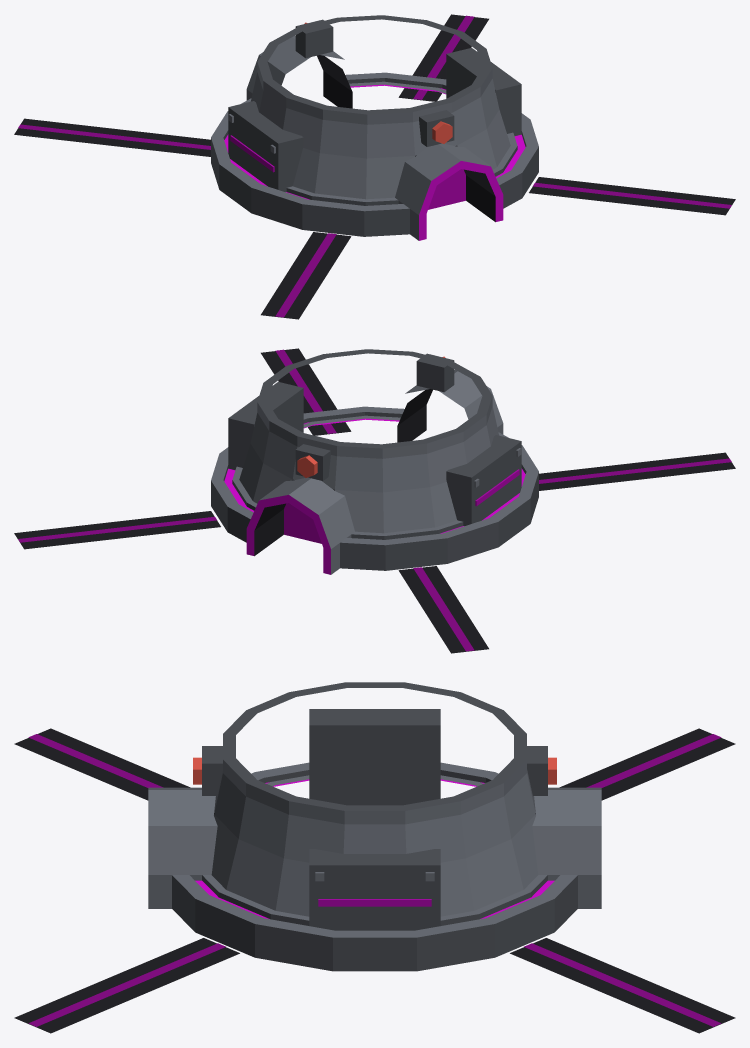
File: tube_entrance_v3_t2.glb
3 renders of one model, top to bottom at view 1: azimuth 30°, elevation 25°; view 2: azimuth 150°, elevation 25°; view 3: azimuth 270°, elevation 25°, orthographic. The views are drawn at different scales.
Visible parts, largest first — view 1: Tube_Entrance; view 2: Tube_Entrance; view 3: Tube_Entrance.
Boxes of the visible parts, x1,y1,x2,y2 form: Tube_Entrance: [14, 14, 735, 319]; Tube_Entrance: [14, 348, 735, 653]; Tube_Entrance: [14, 682, 735, 1033].
Size of the model in its own units: 4.84 by 1 by 4.84.
